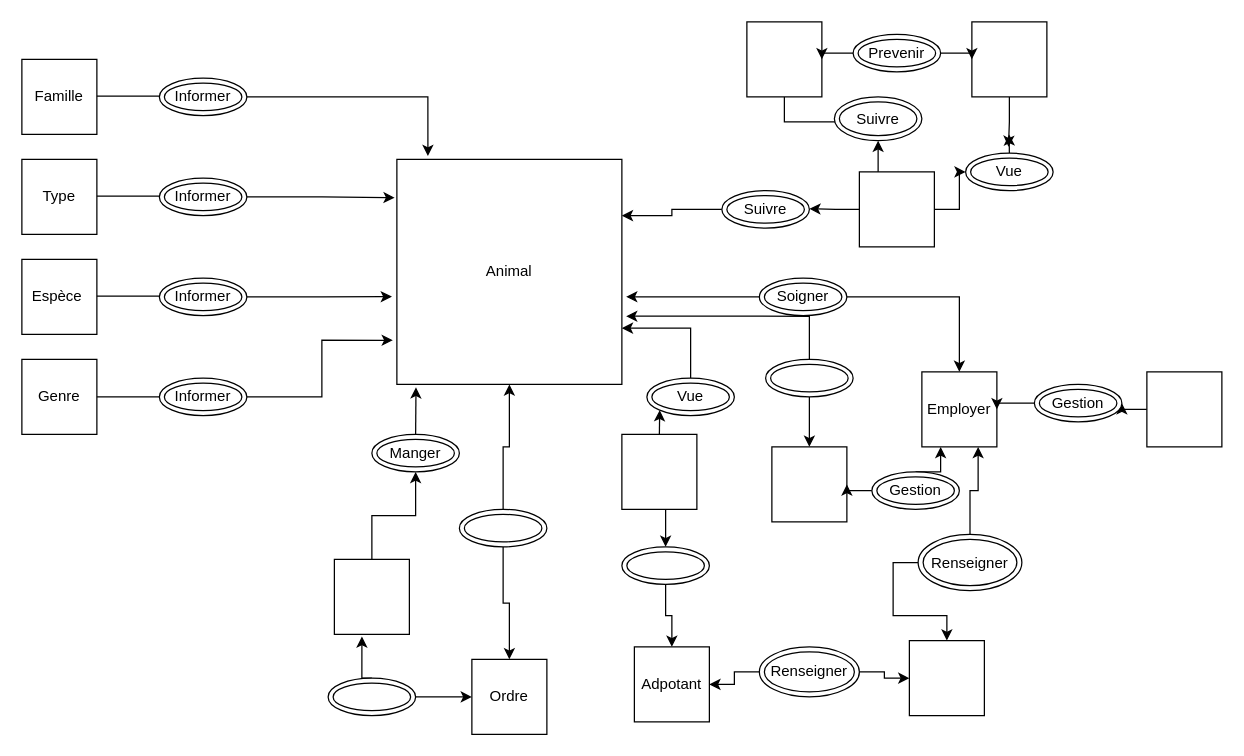
This 1244x756 diagram has some shape labels left out. The centre of each missing label's shape, as x and y in pixels:
"Adresse" belongs at pixel 946 677.
"Allée" belongs at pixel 1184 409.
"Brigitte" belongs at pixel 659 471.
"Cage" belongs at pixel 809 484.
"Carnet de santé" belongs at pixel 896 209.
"Classer" belongs at pixel 502 527.
"Dépend" belongs at pixel 371 696.
"Maladie" belongs at pixel 1009 59.
"Menu" belongs at pixel 371 596.
"Vaccination" belongs at pixel 784 59.
"Valider" belongs at pixel 665 565.
"Vivre" belongs at pixel 808 377.
